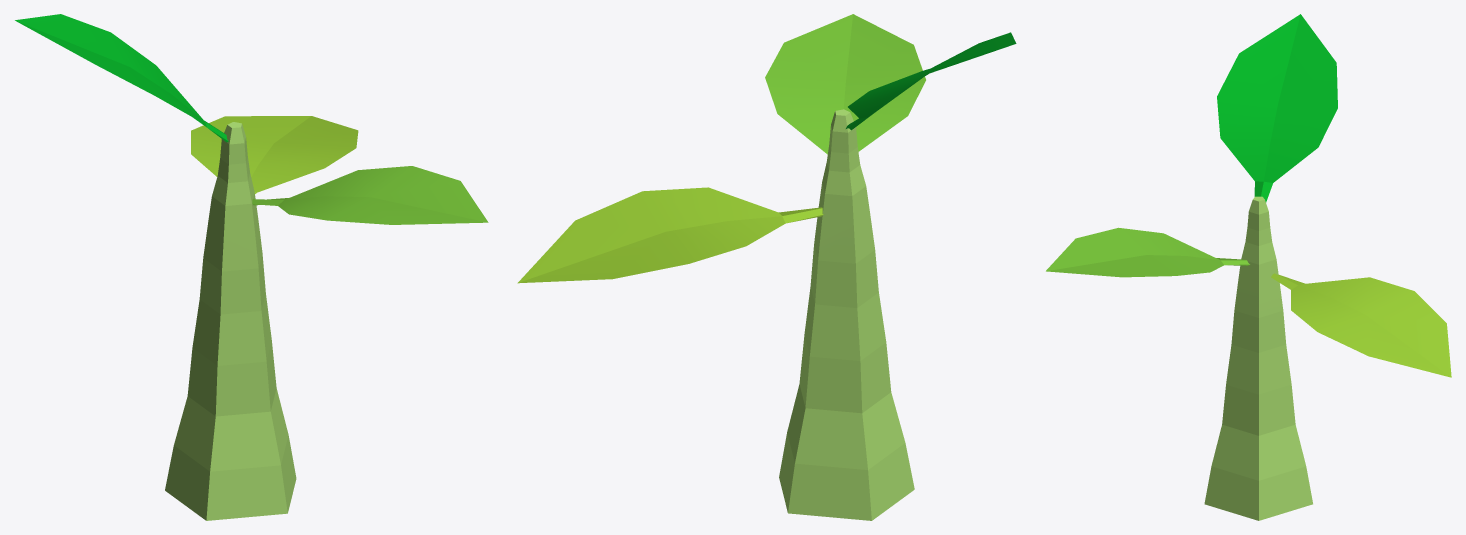
The model's file is mesh_stage1bush01.fbx.
3 renders of one model, left to right at view 1: azimuth 30°, elevation 25°; view 2: azimuth 150°, elevation 25°; view 3: azimuth 270°, elevation 25°, orthographic. The views are drawn at different scales.
Visible parts, largest first — view 1: mesh_stage1bush01; view 2: mesh_stage1bush01; view 3: mesh_stage1bush01.
Boxes of the visible parts, <box> form: mesh_stage1bush01: <box>15,14,488,520</box>; mesh_stage1bush01: <box>517,14,1016,520</box>; mesh_stage1bush01: <box>1046,14,1451,520</box>.
Size of the model in its own units: 24.82 by 30.48 by 27.65.
